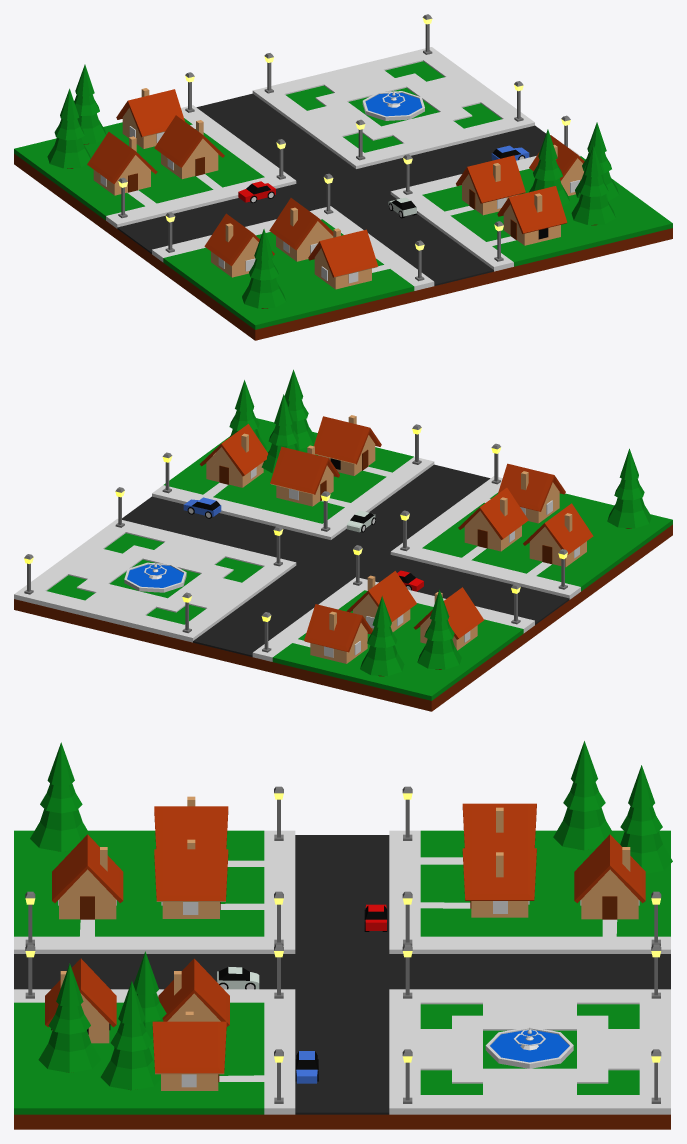
File: neighborhood.glb
3 views of the same model, one above another, from view 1: azimuth 30°, elevation 25°; view 2: azimuth 150°, elevation 25°; view 3: azimuth 270°, elevation 25° (orthographic). The views are drawn at different scales.
Parts seen in each view (by area): view 1: Cube.006, Cube.010, Cube.002, Cube.008, Cube.001, Cube.007, Cube.012, Cube.009, Cube.011, Cylinder.002, Cylinder.004, Cylinder (+6 smaller); view 2: Cube.006, Cube.001, Cube.012, Cube.002, Cube.009, Cube.003, Cube.011, Cube.010, Cube.008, Cylinder.002, Cylinder.001, Cylinder (+6 smaller); view 3: Cube.006, Cube.003, Cube.009, Cube.008, Cube.012, Cube.010, Cylinder.004, Cylinder.005, Cylinder, Cylinder.002, Cube.007, Cube.011 (+8 smaller).
Part boxes in pixels (x1,y1,x2,y2): Cube.006: (14,47,672,340); Cube.010: (308,228,378,289); Cube.002: (497,186,567,245); Cube.008: (154,115,224,179); Cube.001: (456,155,525,215); Cube.007: (87,132,157,195); Cube.012: (116,88,184,148); Cube.009: (269,198,333,261); Cube.011: (204,213,274,277); Cylinder.002: (242,229,286,308); Cylinder.004: (571,145,615,225); Cylinder: (47,88,90,168); Cube.006: (14,418,672,711); Cube.001: (270,445,339,506); Cube.012: (304,604,372,663); Cube.002: (314,415,381,475); Cube.009: (458,487,528,551); Cube.003: (199,424,268,487); Cube.011: (523,503,593,567); Cube.010: (498,463,565,523); Cube.008: (346,571,416,631); Cylinder.002: (607,448,651,528); Cylinder.001: (360,596,404,676); Cylinder: (417,589,461,669); Cube.006: (14,830,670,1129); Cube.003: (152,1011,226,1090); Cube.009: (154,839,228,918); Cube.008: (462,848,536,917); Cube.012: (574,834,645,919); Cube.010: (52,834,123,919); Cylinder.004: (38,963,100,1072); Cylinder.005: (100,981,160,1090); Cylinder: (553,741,615,850); Cylinder.002: (30,742,92,851); Cube.007: (462,803,536,848); Cube.011: (154,796,228,849).
Bounding box in the file's own units: 22.98 × 4.92 × 23.05.
